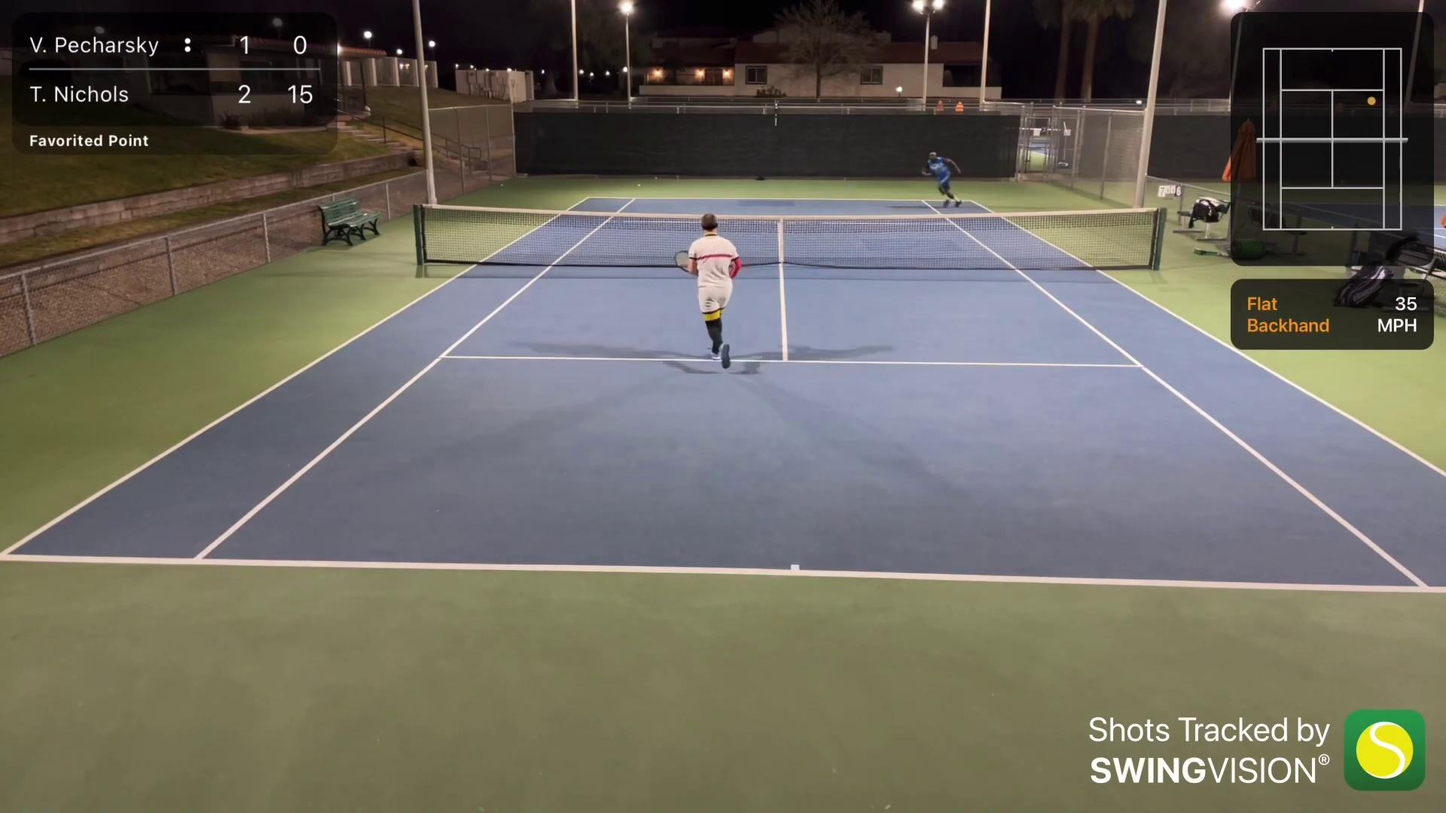ball: (499, 183, 506, 186)
